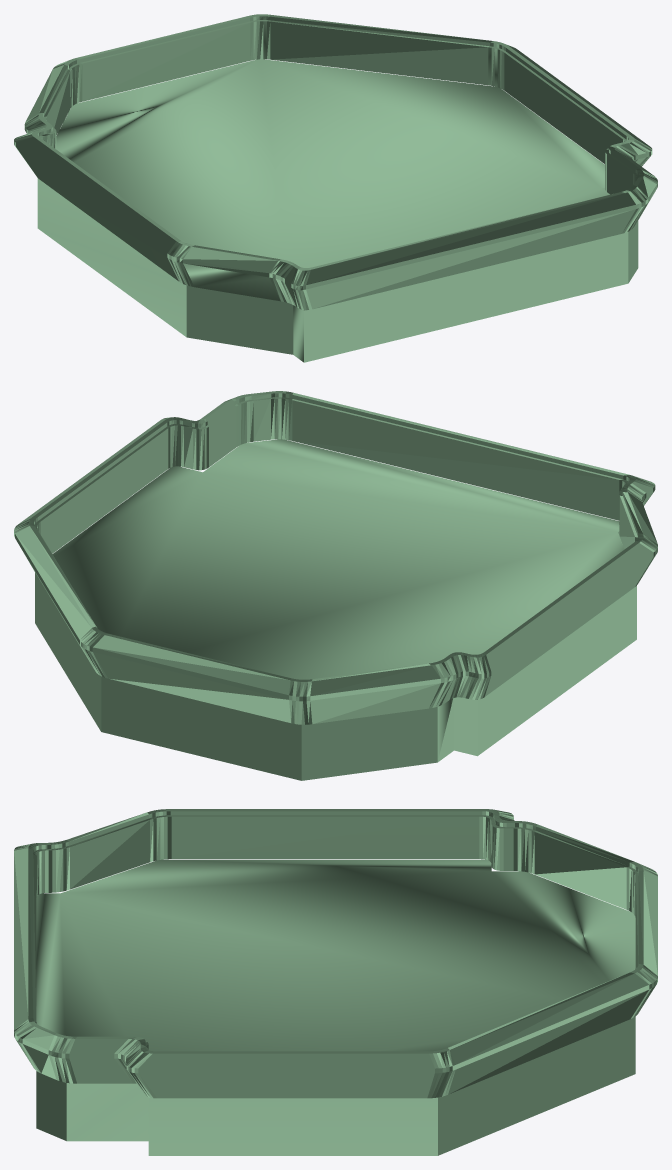
The model's file is building_industrial_001_a_base.glb.
The picture shows the model from 3 angles, top to bottom: view 1: azimuth 30°, elevation 25°; view 2: azimuth 150°, elevation 25°; view 3: azimuth 270°, elevation 25°; orthographic projection. The views are drawn at different scales.
Bounding box in the file's own units: 100 × 19.25 × 106.
